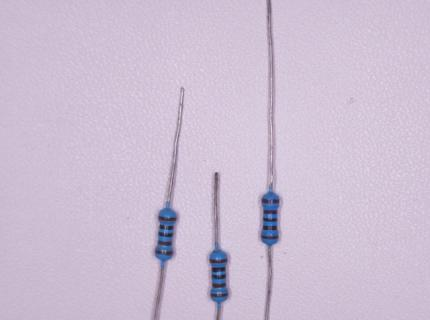Black band: (159, 224, 174, 231), (159, 231, 173, 238), (212, 267, 227, 273), (212, 274, 226, 280), (263, 225, 277, 231), (263, 217, 277, 222)
Brown band: (155, 249, 173, 256), (158, 216, 177, 222), (209, 258, 228, 264), (263, 198, 280, 204), (260, 235, 280, 240), (158, 240, 173, 246), (210, 293, 228, 298), (212, 283, 227, 288), (263, 209, 278, 214)
